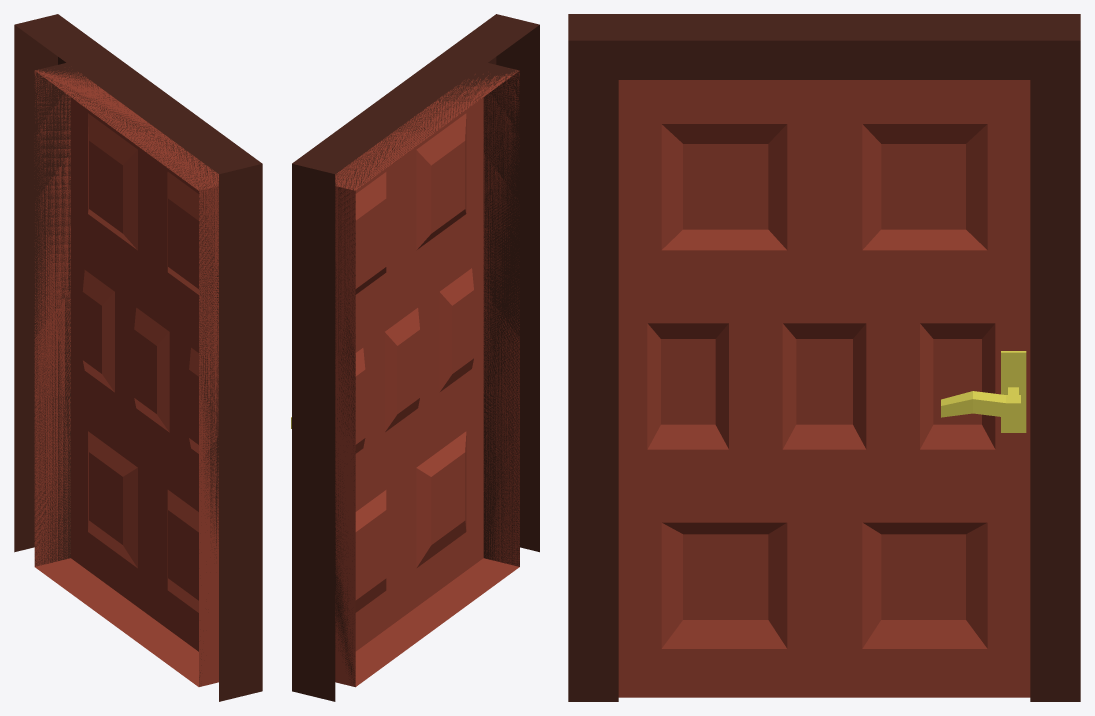
File: Puerta_basica_1_hoja_01.fbx
The picture shows the model from 3 angles, left to right: view 1: azimuth 30°, elevation 25°; view 2: azimuth 150°, elevation 25°; view 3: azimuth 270°, elevation 25°; orthographic projection. The views are drawn at different scales.
Visible parts, largest first — view 1: Marco_Puerta_basica_1_hoja, Puerta_basica_1_hoja.002; view 2: Marco_Puerta_basica_1_hoja, Puerta_basica_1_hoja.002; view 3: Marco_Puerta_basica_1_hoja, Puerta_basica_1_hoja.002.
Part boxes in pixels (x1,y1,x2,y2): Marco_Puerta_basica_1_hoja: (34,69,218,686); Puerta_basica_1_hoja.002: (14,14,262,701); Marco_Puerta_basica_1_hoja: (291,70,519,687); Puerta_basica_1_hoja.002: (292,14,539,701); Marco_Puerta_basica_1_hoja: (618,80,1030,697); Puerta_basica_1_hoja.002: (568,14,1080,701).
Size of the model in its own units: 28.8 by 213 by 149.
